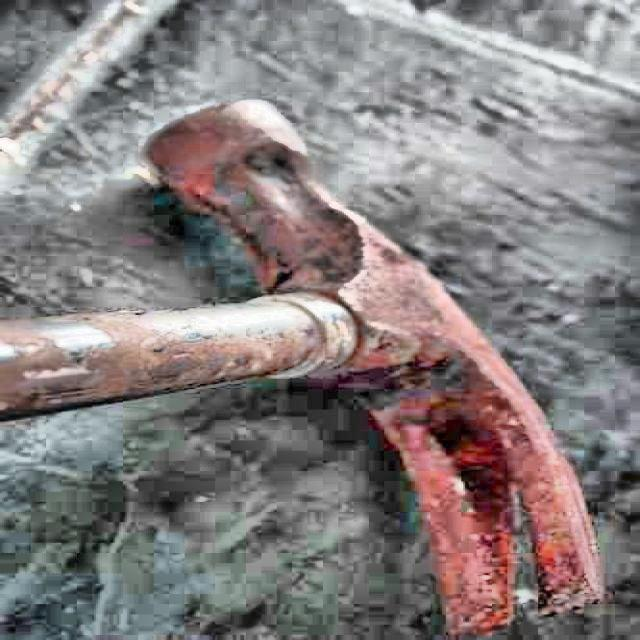hammer: (0, 96, 614, 632)
